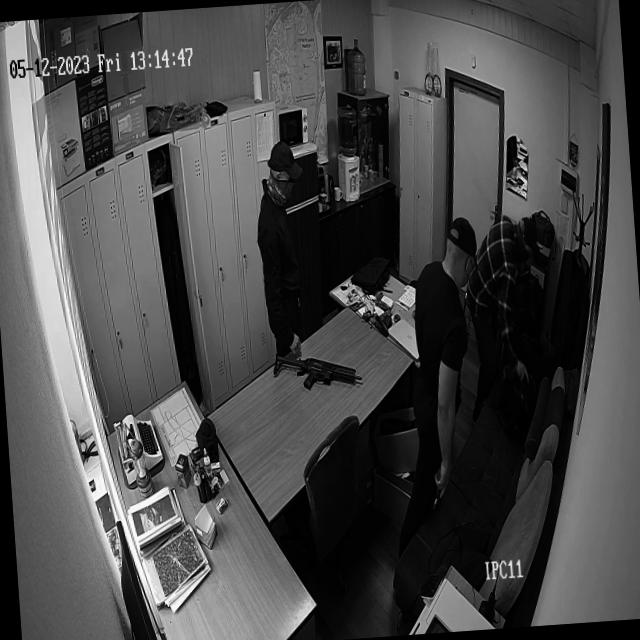gun: (270, 346, 364, 396), (431, 464, 451, 512)
person: (467, 213, 548, 384), (254, 144, 314, 350)
person with a gun: (400, 217, 488, 500)
